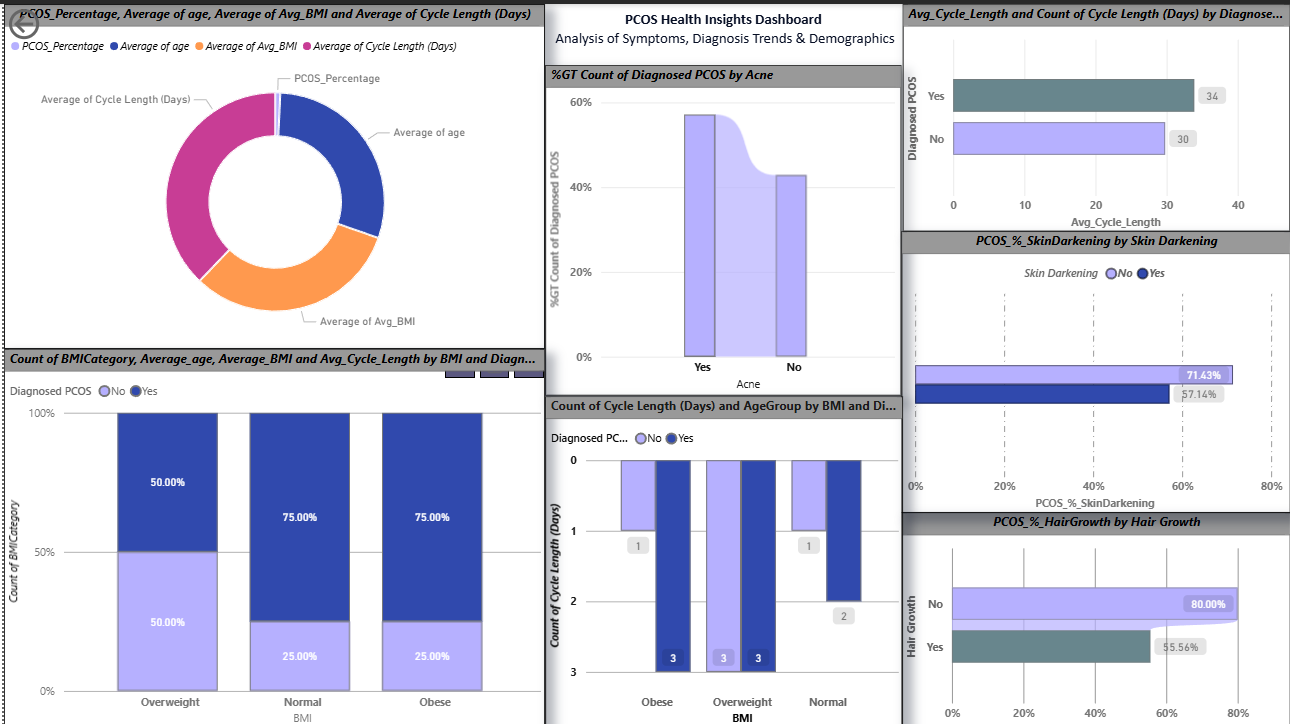

The dashboard page shown, as its layout file describes it:
{"tool":"powerbi","page":{"name":"Page 1","canvas":[1280,720],"ordinal":0},"visuals":[{"type":"donutChart","fields":{"Y":["Sheet1.PCOS_Percentage","Avg(Sheet1.Average Age)","Avg(Sheet1.Average BMI)","Avg(Sheet1.Cycle Length (Days))"]},"box":[0,0,538.6,342.9],"z":0},{"type":"ribbonChart","fields":{"Y":["Divide(CountNonNull(Sheet1.Diagnosed PCOS), ScopedEval(CountNonNull(Sheet1.Diagnosed PCOS), []))"],"Category":["Sheet1.Acne"]},"box":[538.6,61.4,354.3,328.6],"z":1000},{"type":"actionButton","box":[0,0,100,40],"z":2000},{"type":"barChart","fields":{"Category":["Sheet1.Diagnosed PCOS"],"Y":["Sheet1.Avg_Cycle_Length"]},"box":[894.6,0,385.4,226.2],"z":3000},{"type":"barChart","fields":{"Category":["Sheet1.Hair Growth"],"Y":["Sheet1.PCOS_%_HairGrowth"]},"box":[892.9,505.7,387.1,214.3],"z":4000},{"type":"clusteredBarChart","fields":{"Series":["Sheet1.Skin Darkening"],"Y":["Sheet1.PCOS_%_SkinDarkening"]},"box":[893.3,226.4,387,279.9],"z":5000},{"type":"hundredPercentStackedColumnChart","fields":{"Series":["Sheet1.Diagnosed PCOS"],"Y":["CountNonNull(Sheet1.BMICategory)"],"Category":["Sheet1.BMI"]},"box":[0,342.9,538.6,377.1],"z":6000},{"type":"clusteredColumnChart","fields":{"Series":["Sheet1.Diagnosed PCOS"],"Y":["Count(Sheet1.Cycle Length (Days))"],"Category":["Sheet1.BMI"]},"box":[538.6,390,355.7,330],"z":7000},{"type":"textbox","box":[538.6,0,354.3,80],"z":8000}]}

Visuals, with their boxes in screenshot pixels (x1, y1, x2, y2), scaled from the page's 1280x720 canvas onto the 1290x724 screenshot:
donutChart - Sheet1.PCOS_Percentage x Avg(Sheet1.Average Age): <bbox>0, 0, 543, 345</bbox>
ribbonChart - Divide(CountNonNull(Sheet1.Diagnosed PCOS), ScopedEval(CountNonNull(Sheet1.Diagnosed PCOS), [])) x Sheet1.Acne: <bbox>543, 62, 900, 392</bbox>
actionButton: <bbox>0, 0, 101, 40</bbox>
barChart - Sheet1.Diagnosed PCOS x Sheet1.Avg_Cycle_Length: <bbox>902, 0, 1289, 227</bbox>
barChart - Sheet1.Hair Growth x Sheet1.PCOS_%_HairGrowth: <bbox>900, 509, 1289, 723</bbox>
clusteredBarChart - Sheet1.Skin Darkening x Sheet1.PCOS_%_SkinDarkening: <bbox>900, 228, 1289, 509</bbox>
hundredPercentStackedColumnChart - Sheet1.Diagnosed PCOS x CountNonNull(Sheet1.BMICategory): <bbox>0, 345, 543, 723</bbox>
clusteredColumnChart - Sheet1.Diagnosed PCOS x Count(Sheet1.Cycle Length (Days)): <bbox>543, 392, 901, 723</bbox>
textbox: <bbox>543, 0, 900, 80</bbox>
